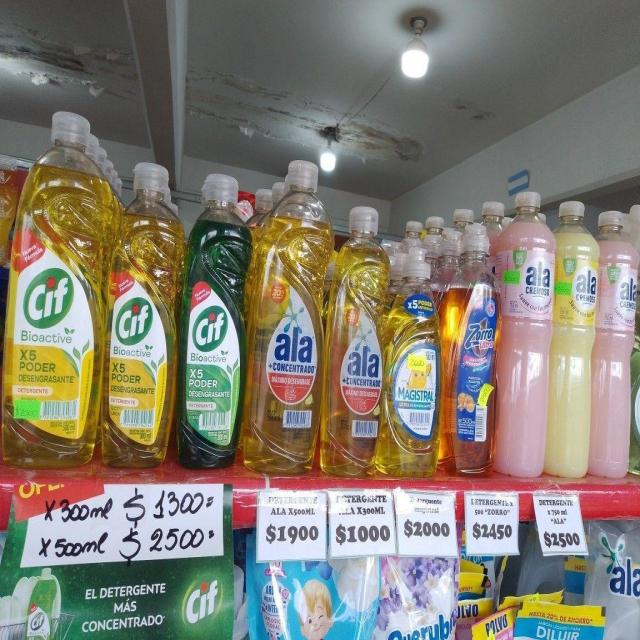ala_conc_amarillo: (246, 156, 325, 475), (326, 199, 384, 477)
cif_conc_bot_amarilla: (3, 108, 104, 470), (105, 160, 178, 469), (0, 109, 13, 272)
cif_conc_botella_verde: (181, 167, 245, 469), (26, 568, 56, 640)
heroe: (497, 189, 551, 481)
magistral_con_amarillo: (385, 215, 441, 478)
